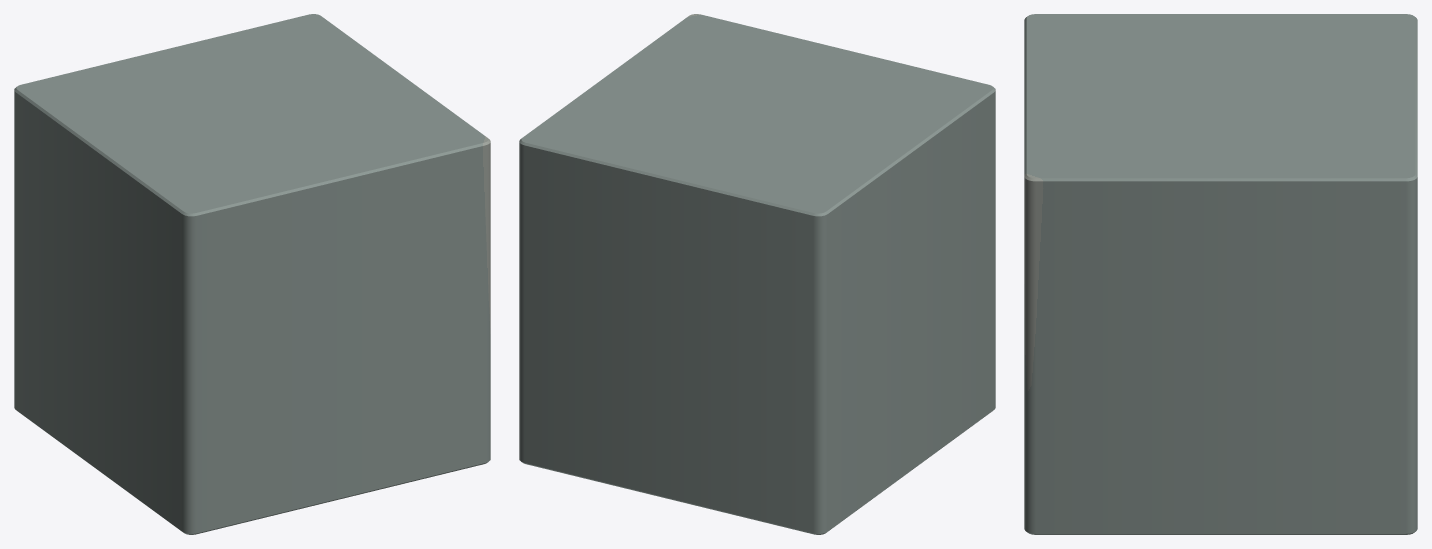
Rendered from Env_Floor_SpaceStation_BaseFlooring_1x1.fbx.
The picture shows the model from 3 angles, left to right: view 1: azimuth 30°, elevation 25°; view 2: azimuth 150°, elevation 25°; view 3: azimuth 270°, elevation 25°; orthographic projection. The views are drawn at different scales.
Visible parts, largest first — view 1: Env_Floor_SpaceStation_BaseFlooring_1x1; view 2: Env_Floor_SpaceStation_BaseFlooring_1x1; view 3: Env_Floor_SpaceStation_BaseFlooring_1x1.
Boxes of the visible parts, box(x1,y1,x2,y2) form: Env_Floor_SpaceStation_BaseFlooring_1x1: box(14, 14, 490, 534); Env_Floor_SpaceStation_BaseFlooring_1x1: box(519, 14, 995, 534); Env_Floor_SpaceStation_BaseFlooring_1x1: box(1024, 14, 1417, 534).
Size of the model in its own units: 100 by 100 by 100.
